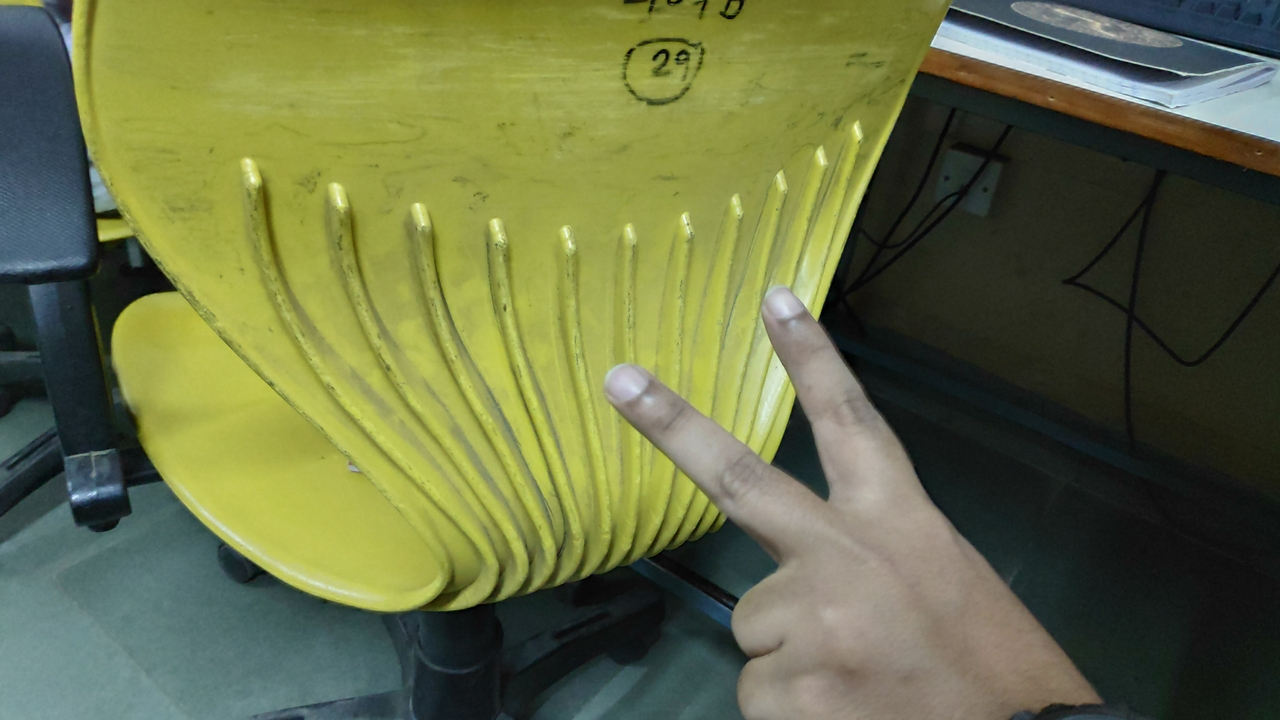fingertip: (598, 356, 664, 420), (756, 280, 816, 340)
